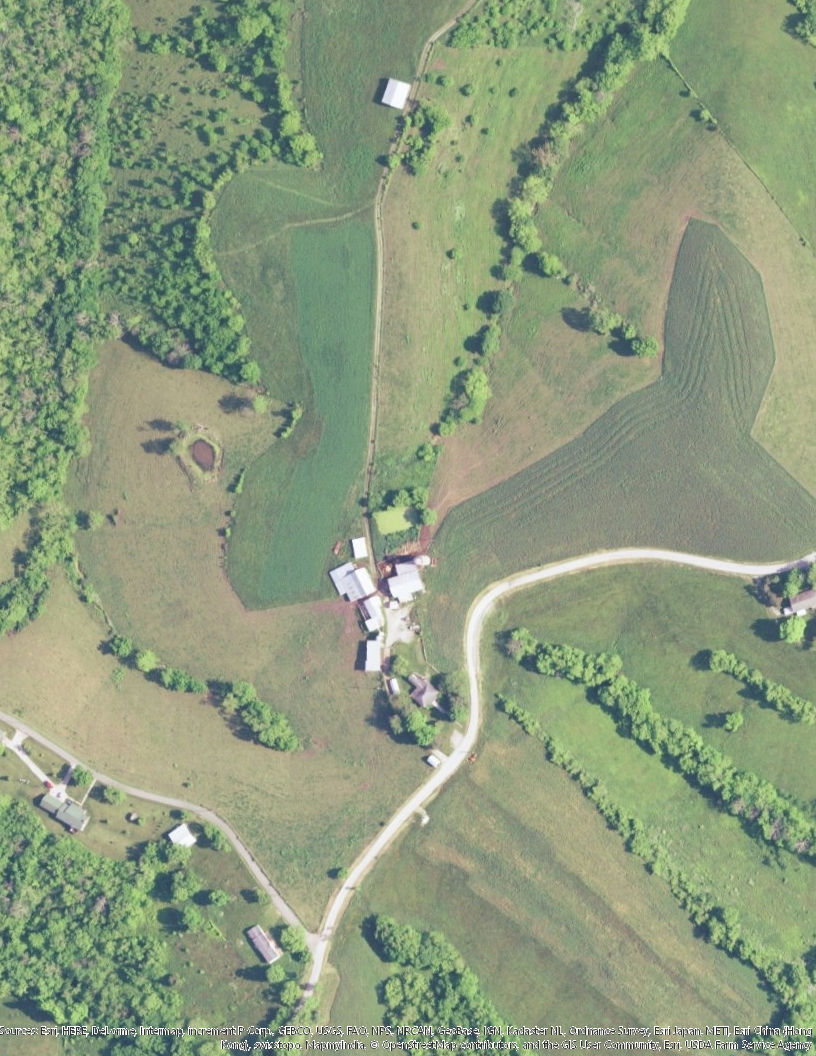cafo: (329, 528, 436, 675)
